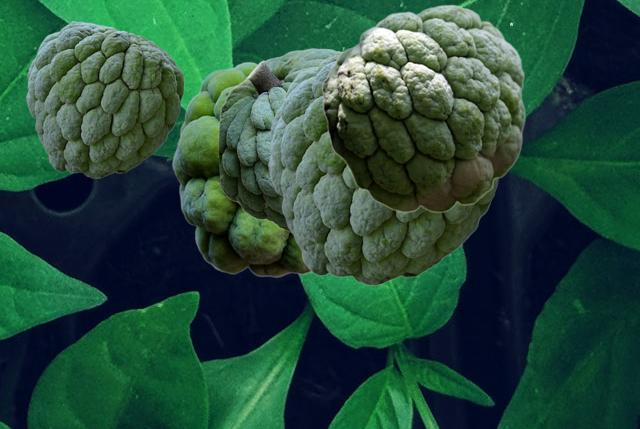atis: (268, 51, 499, 284), (321, 4, 525, 212), (172, 61, 311, 277), (26, 21, 183, 177), (218, 48, 336, 232)
